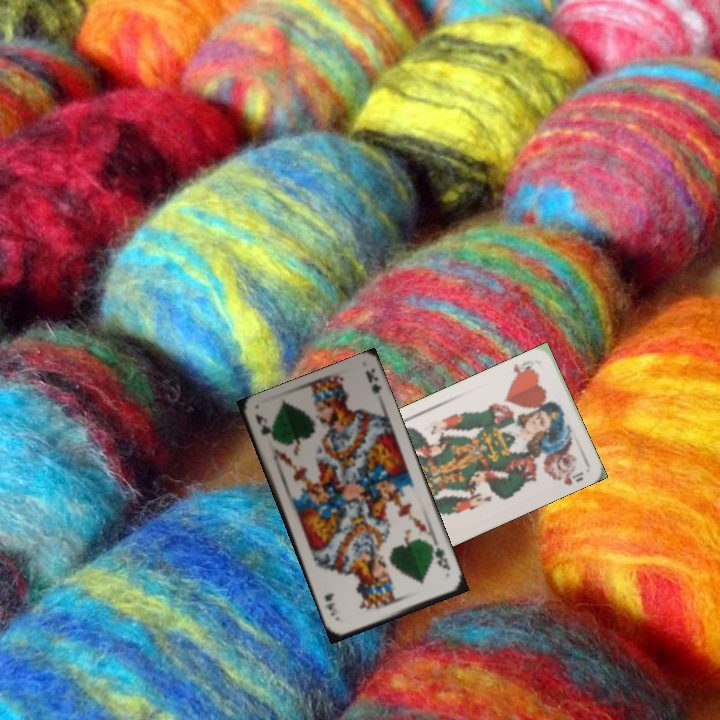GK: (251, 410, 276, 444), (428, 543, 453, 573)
HO: (509, 359, 537, 382)
